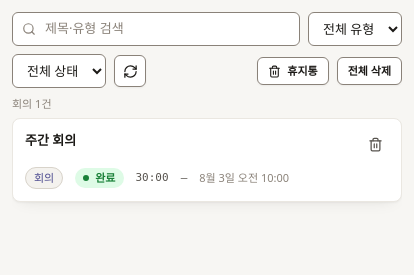
Test case: 삭제 → 휴지통 → 되돌리기 › [되돌리기] 를 누르면 복원 API 를 부르고 목록을 다시 읽는다
The image size is (414, 275).
Step 1. Click the button named "휴지통으로 보내기" → point(375, 145), box x1=361 y1=131 x2=389 y2=159
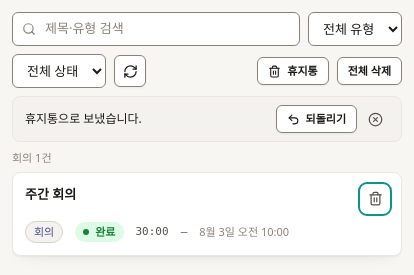
Step 2. Click the button "되돌리기" → point(316, 119), box x1=276 y1=105 x2=357 y2=133
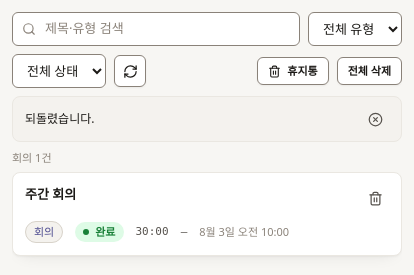
Now the text "되돌렸습니다." is shown, box x1=25 y1=110 x2=94 y2=128
